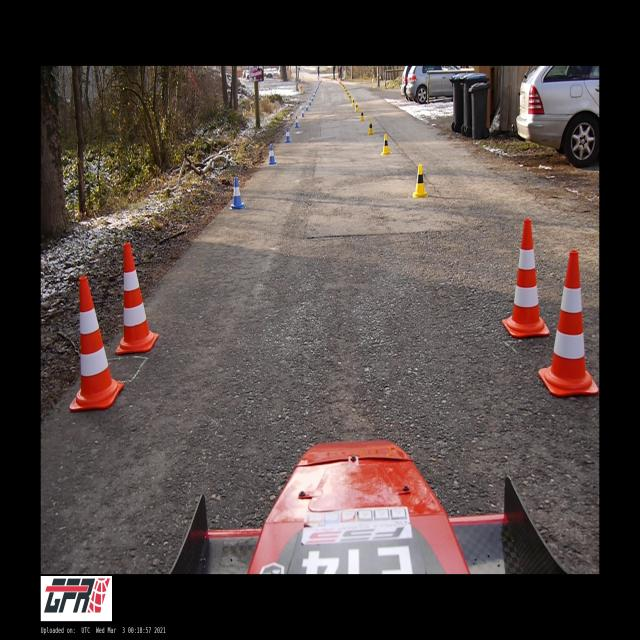blue_cone: (230, 177, 246, 209), (268, 144, 276, 164), (285, 128, 291, 142), (295, 116, 299, 128), (301, 107, 305, 117), (306, 102, 308, 110), (309, 98, 311, 105), (312, 95, 313, 101)
large_orange_cone: (539, 251, 598, 395), (70, 277, 123, 411), (502, 220, 549, 336), (116, 243, 158, 353)
yellow_cone: (412, 164, 428, 197), (382, 134, 390, 154), (368, 119, 374, 134), (360, 108, 364, 120), (355, 102, 358, 112), (352, 98, 354, 106), (349, 94, 351, 102), (348, 92, 348, 96)
